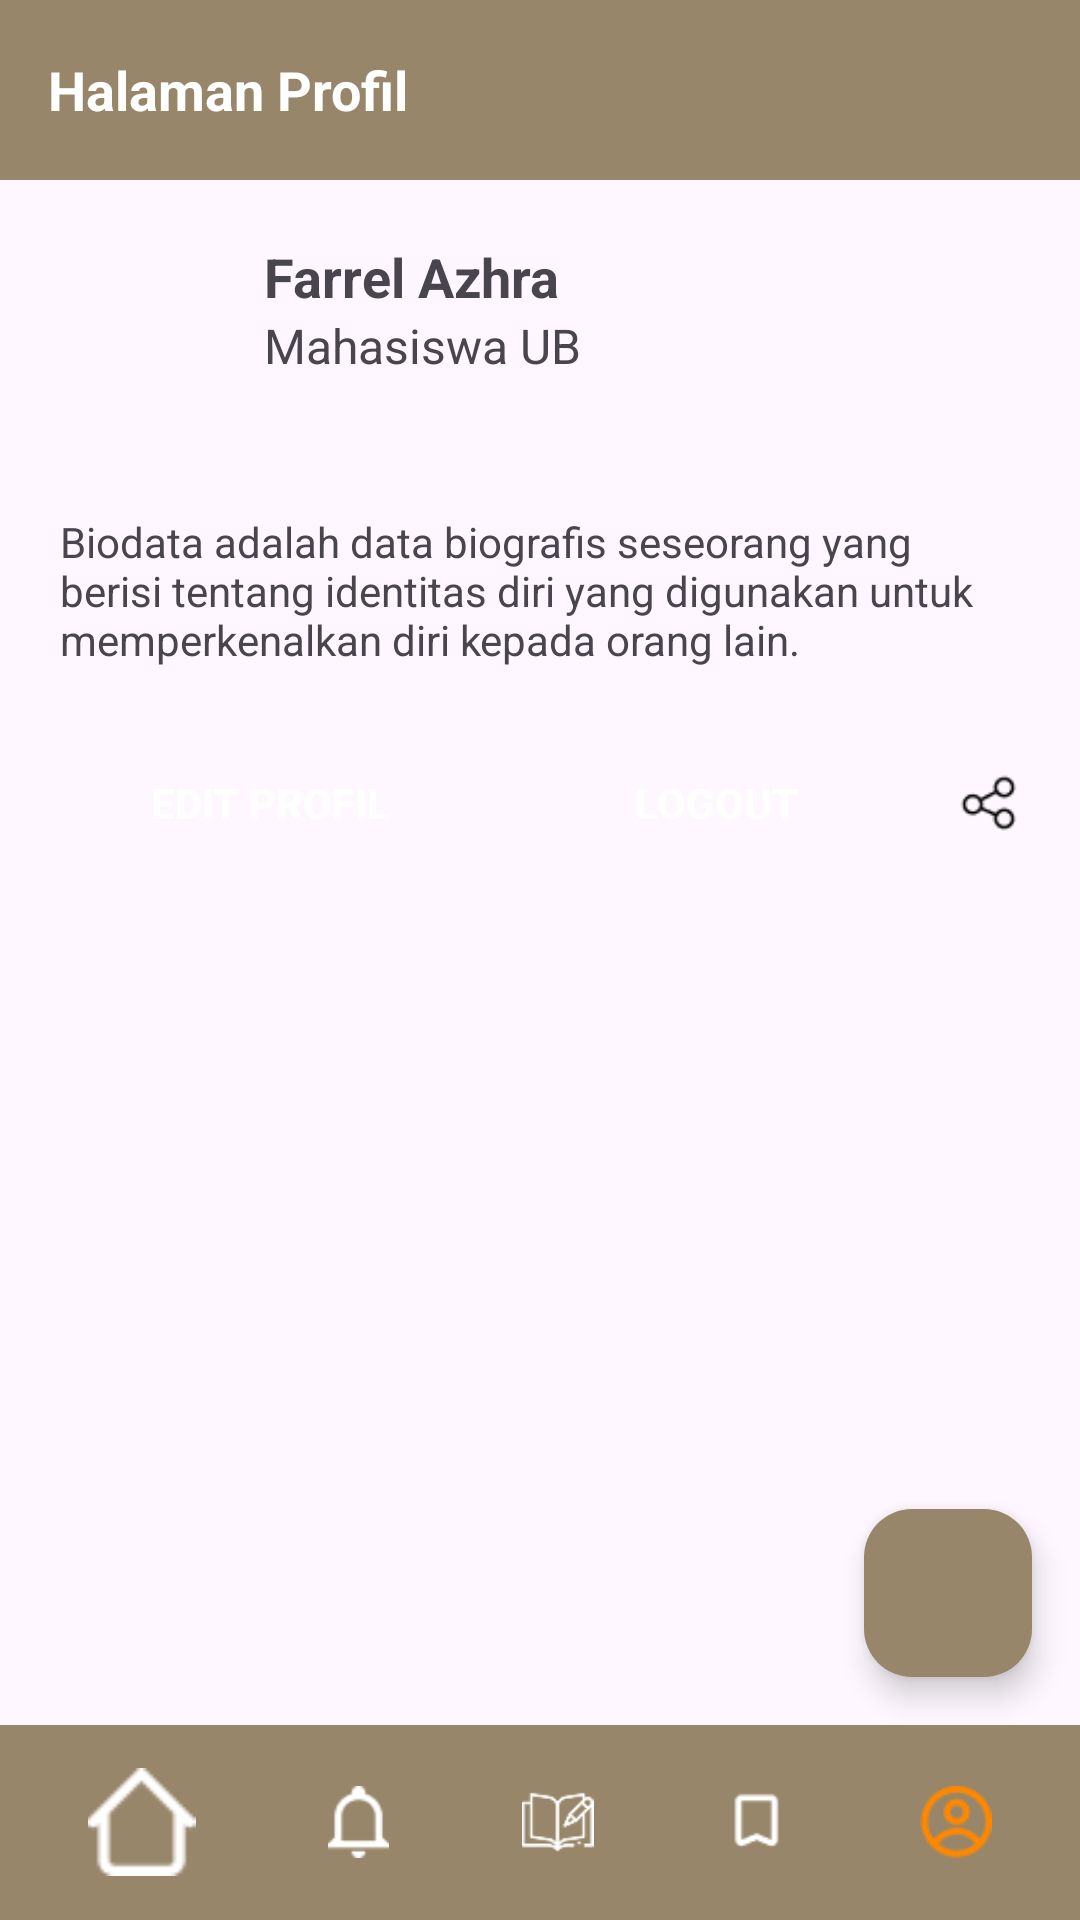

Icon bounding boxes for this 1080px x 1920px phone screenshot, format (x1, y1, x2, y2):
Home: (88, 1768, 196, 1876)
Journal: (522, 1793, 594, 1851)
Notifications: (328, 1786, 389, 1858)
Profile: (920, 1786, 992, 1858)
Save: (734, 1794, 779, 1847)
share: (961, 775, 1016, 831)
